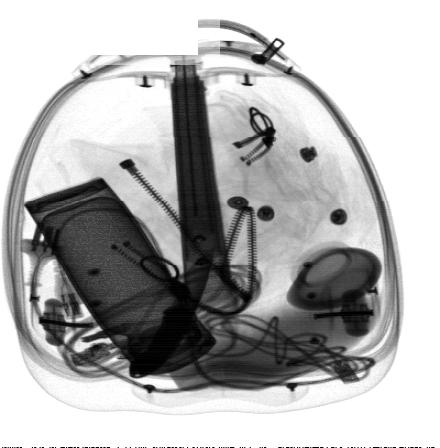Knife: (128, 247, 213, 379)
